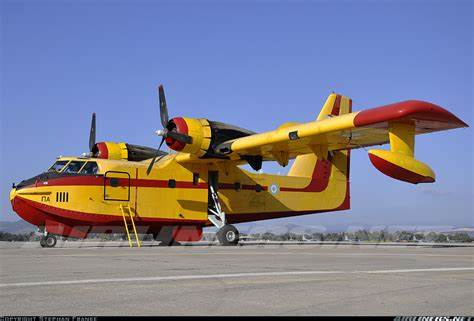Aeronef_de_service: (6, 79, 472, 263)
